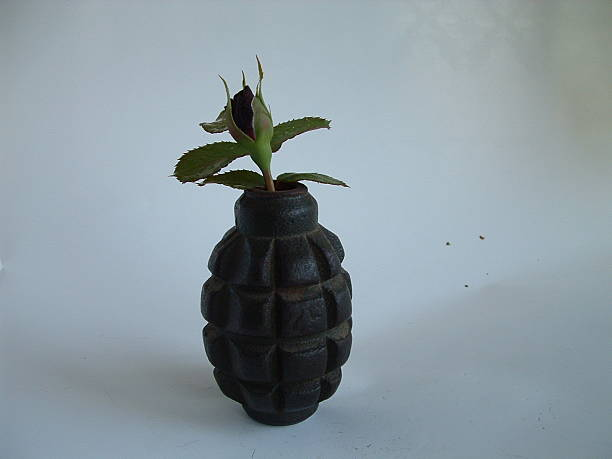e1: (196, 181, 363, 430)
